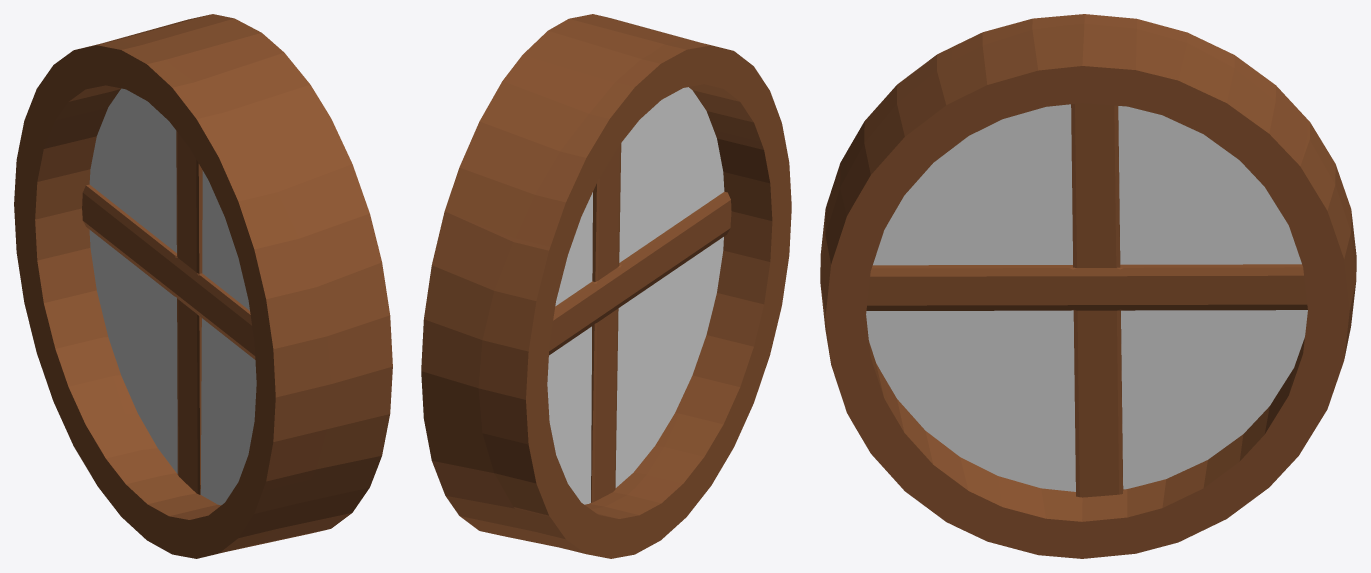
File: KitchenWindowRound.fbx
The picture shows the model from 3 angles, left to right: view 1: azimuth 30°, elevation 25°; view 2: azimuth 150°, elevation 25°; view 3: azimuth 270°, elevation 25°; orthographic projection.
Parts seen in each view (by area): view 1: KitchenWindowRound; view 2: KitchenWindowRound; view 3: KitchenWindowRound.
Part boxes in pixels (bbox=[...]): KitchenWindowRound: bbox=[14, 14, 392, 558]; KitchenWindowRound: bbox=[421, 14, 791, 558]; KitchenWindowRound: bbox=[820, 14, 1356, 558].
Bounding box in the file's own units: 41.41 × 160 × 158.
